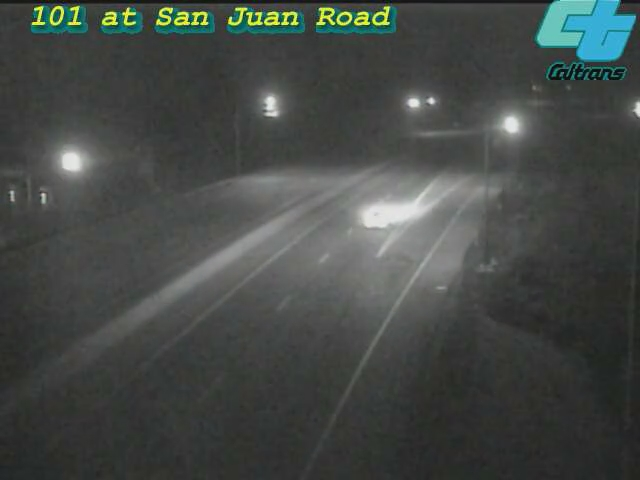vehicle: (336, 177, 416, 257), (482, 100, 532, 150), (612, 84, 640, 134)
